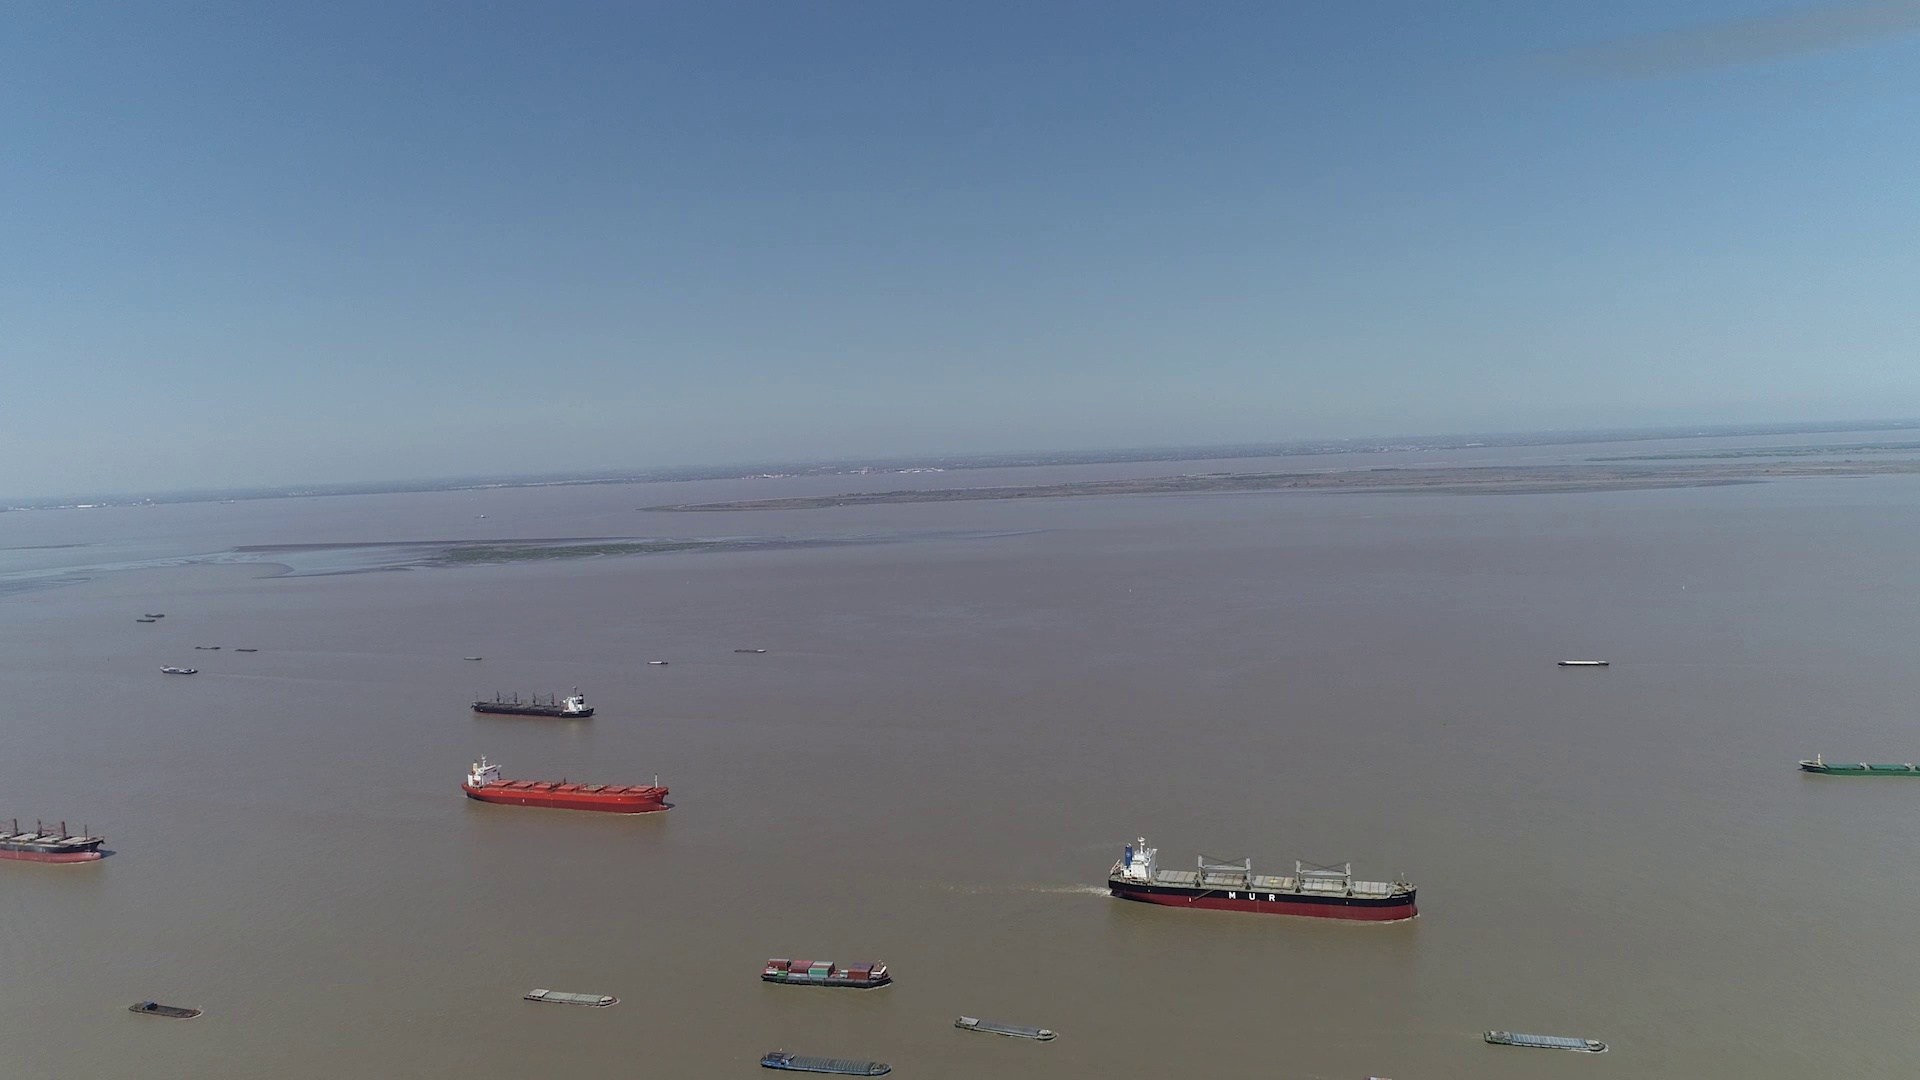ship: (1108, 833, 1419, 923), (463, 753, 669, 814), (3, 806, 109, 862), (764, 957, 891, 990), (472, 687, 595, 720), (760, 1048, 895, 1076), (1485, 1029, 1611, 1054), (1797, 752, 1920, 775), (953, 1015, 1056, 1040), (524, 986, 618, 1007), (127, 1001, 204, 1018), (1556, 658, 1609, 667), (162, 663, 196, 675)
